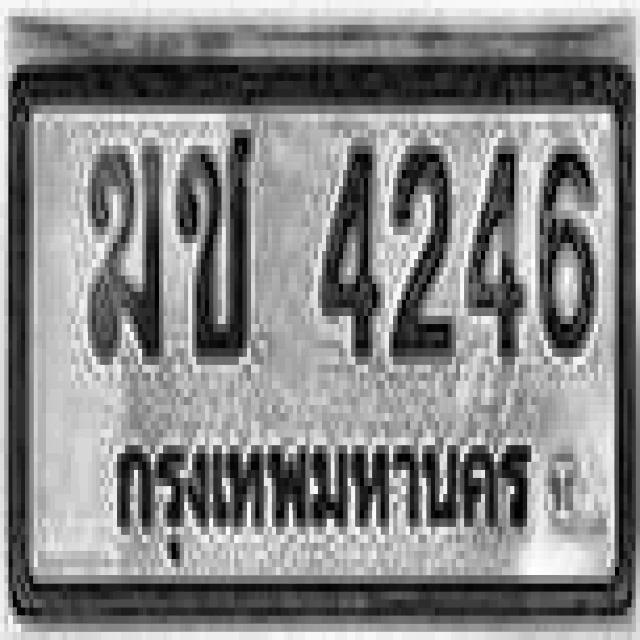license-plate: (12, 64, 630, 618)
